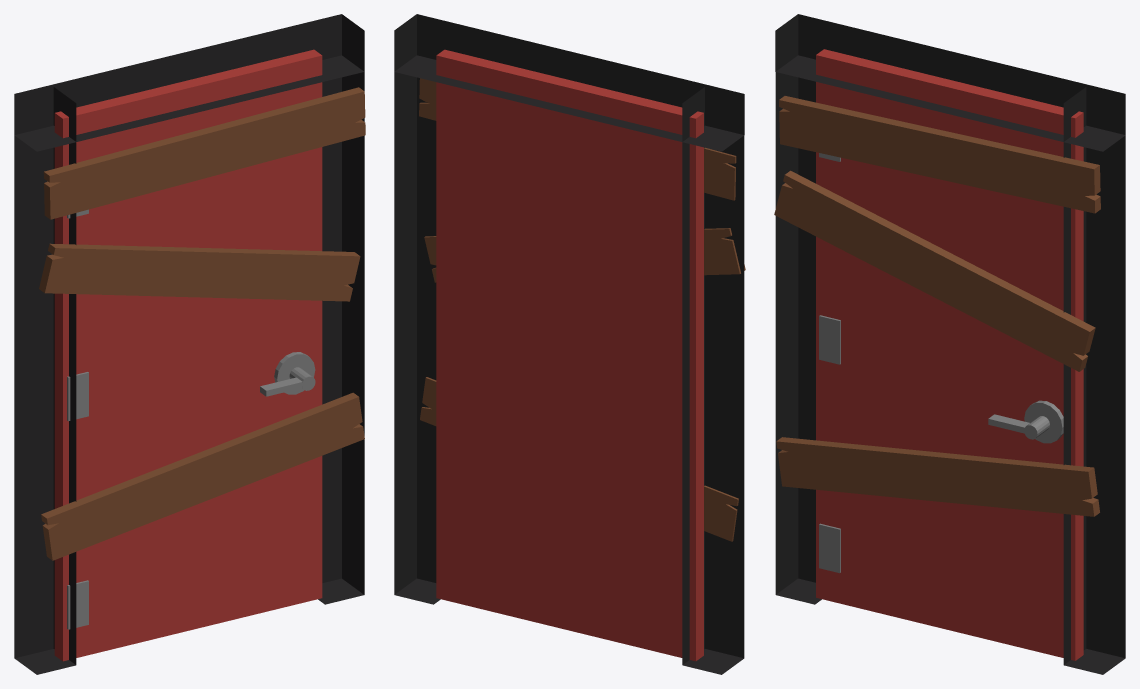
The model's file is DoorBlocked.fbx.
The picture shows the model from 3 angles, left to right: view 1: azimuth 30°, elevation 25°; view 2: azimuth 150°, elevation 25°; view 3: azimuth 330°, elevation 25°; orthographic projection.
Visible parts, largest first — view 1: Cube.098; view 2: Cube.098; view 3: Cube.098.
Boxes of the visible parts, x1,y1,x2,y2 form: Cube.098: (14,14,365,674); Cube.098: (394,14,745,674); Cube.098: (774,14,1125,674).
Size of the model in its own units: 485 by 799 by 79.31.
